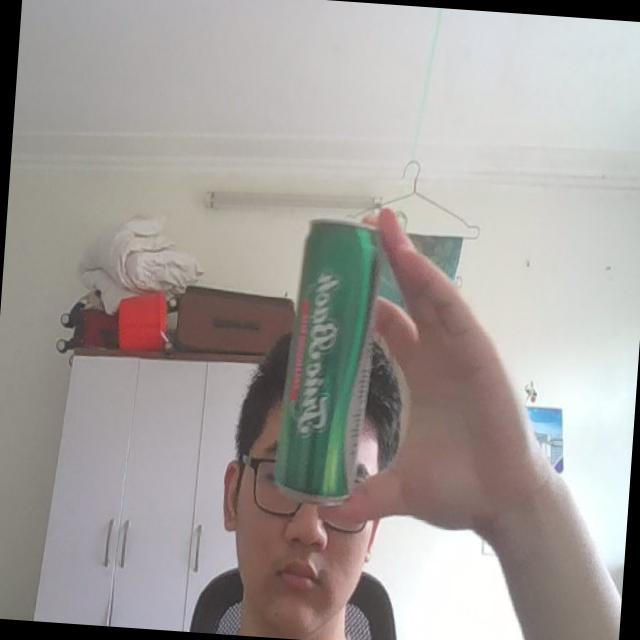Bia-Truc-Bach: (267, 213, 387, 507)
